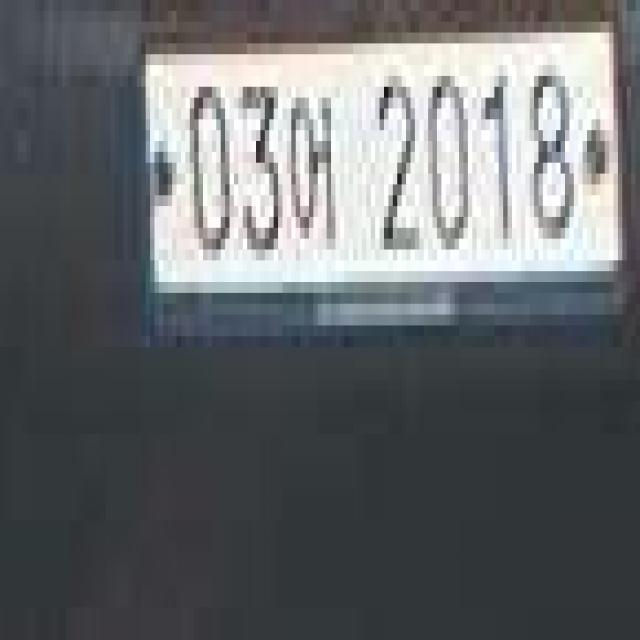illegal_plate: (151, 35, 617, 329)
